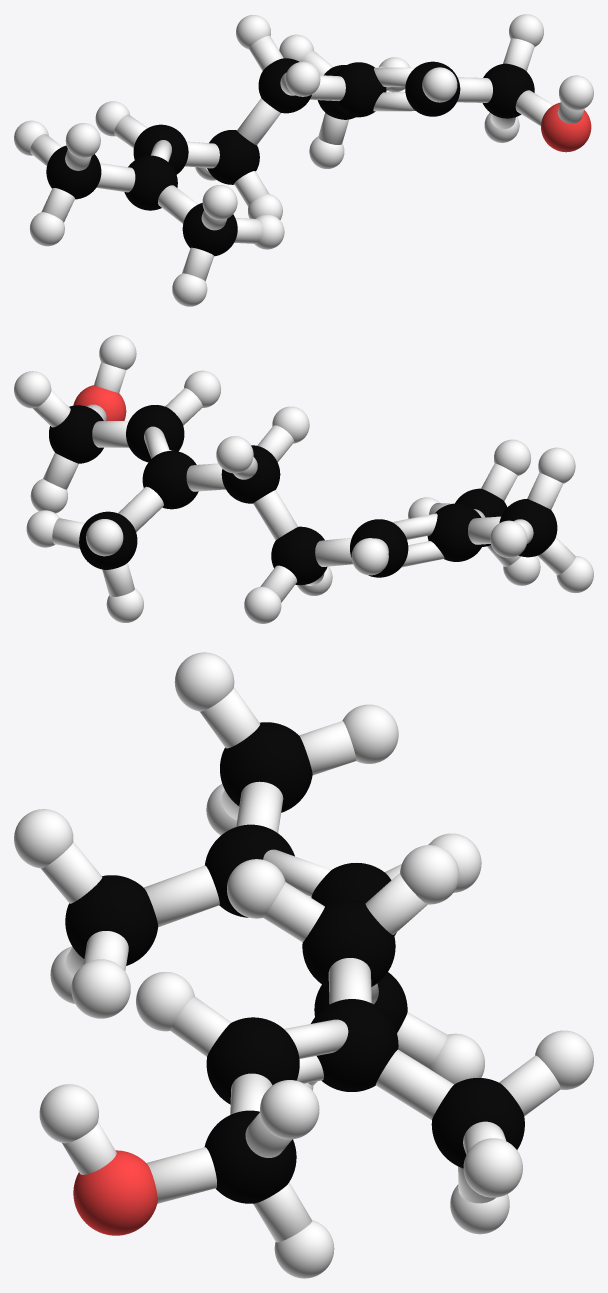
The picture shows the model from 3 angles, top to bottom: view 1: azimuth 30°, elevation 25°; view 2: azimuth 150°, elevation 25°; view 3: azimuth 270°, elevation 25°; orthographic projection. The views are drawn at different scales.
Visible parts, largest first — view 1: molecule; view 2: molecule; view 3: molecule.
Boxes of the visible parts, <box> form: molecule: <box>14,14,593,306</box>; molecule: <box>14,335,593,623</box>; molecule: <box>14,652,593,1278</box>.
Bounding box in the file's own units: 10.37 × 3.46 × 5.85.
